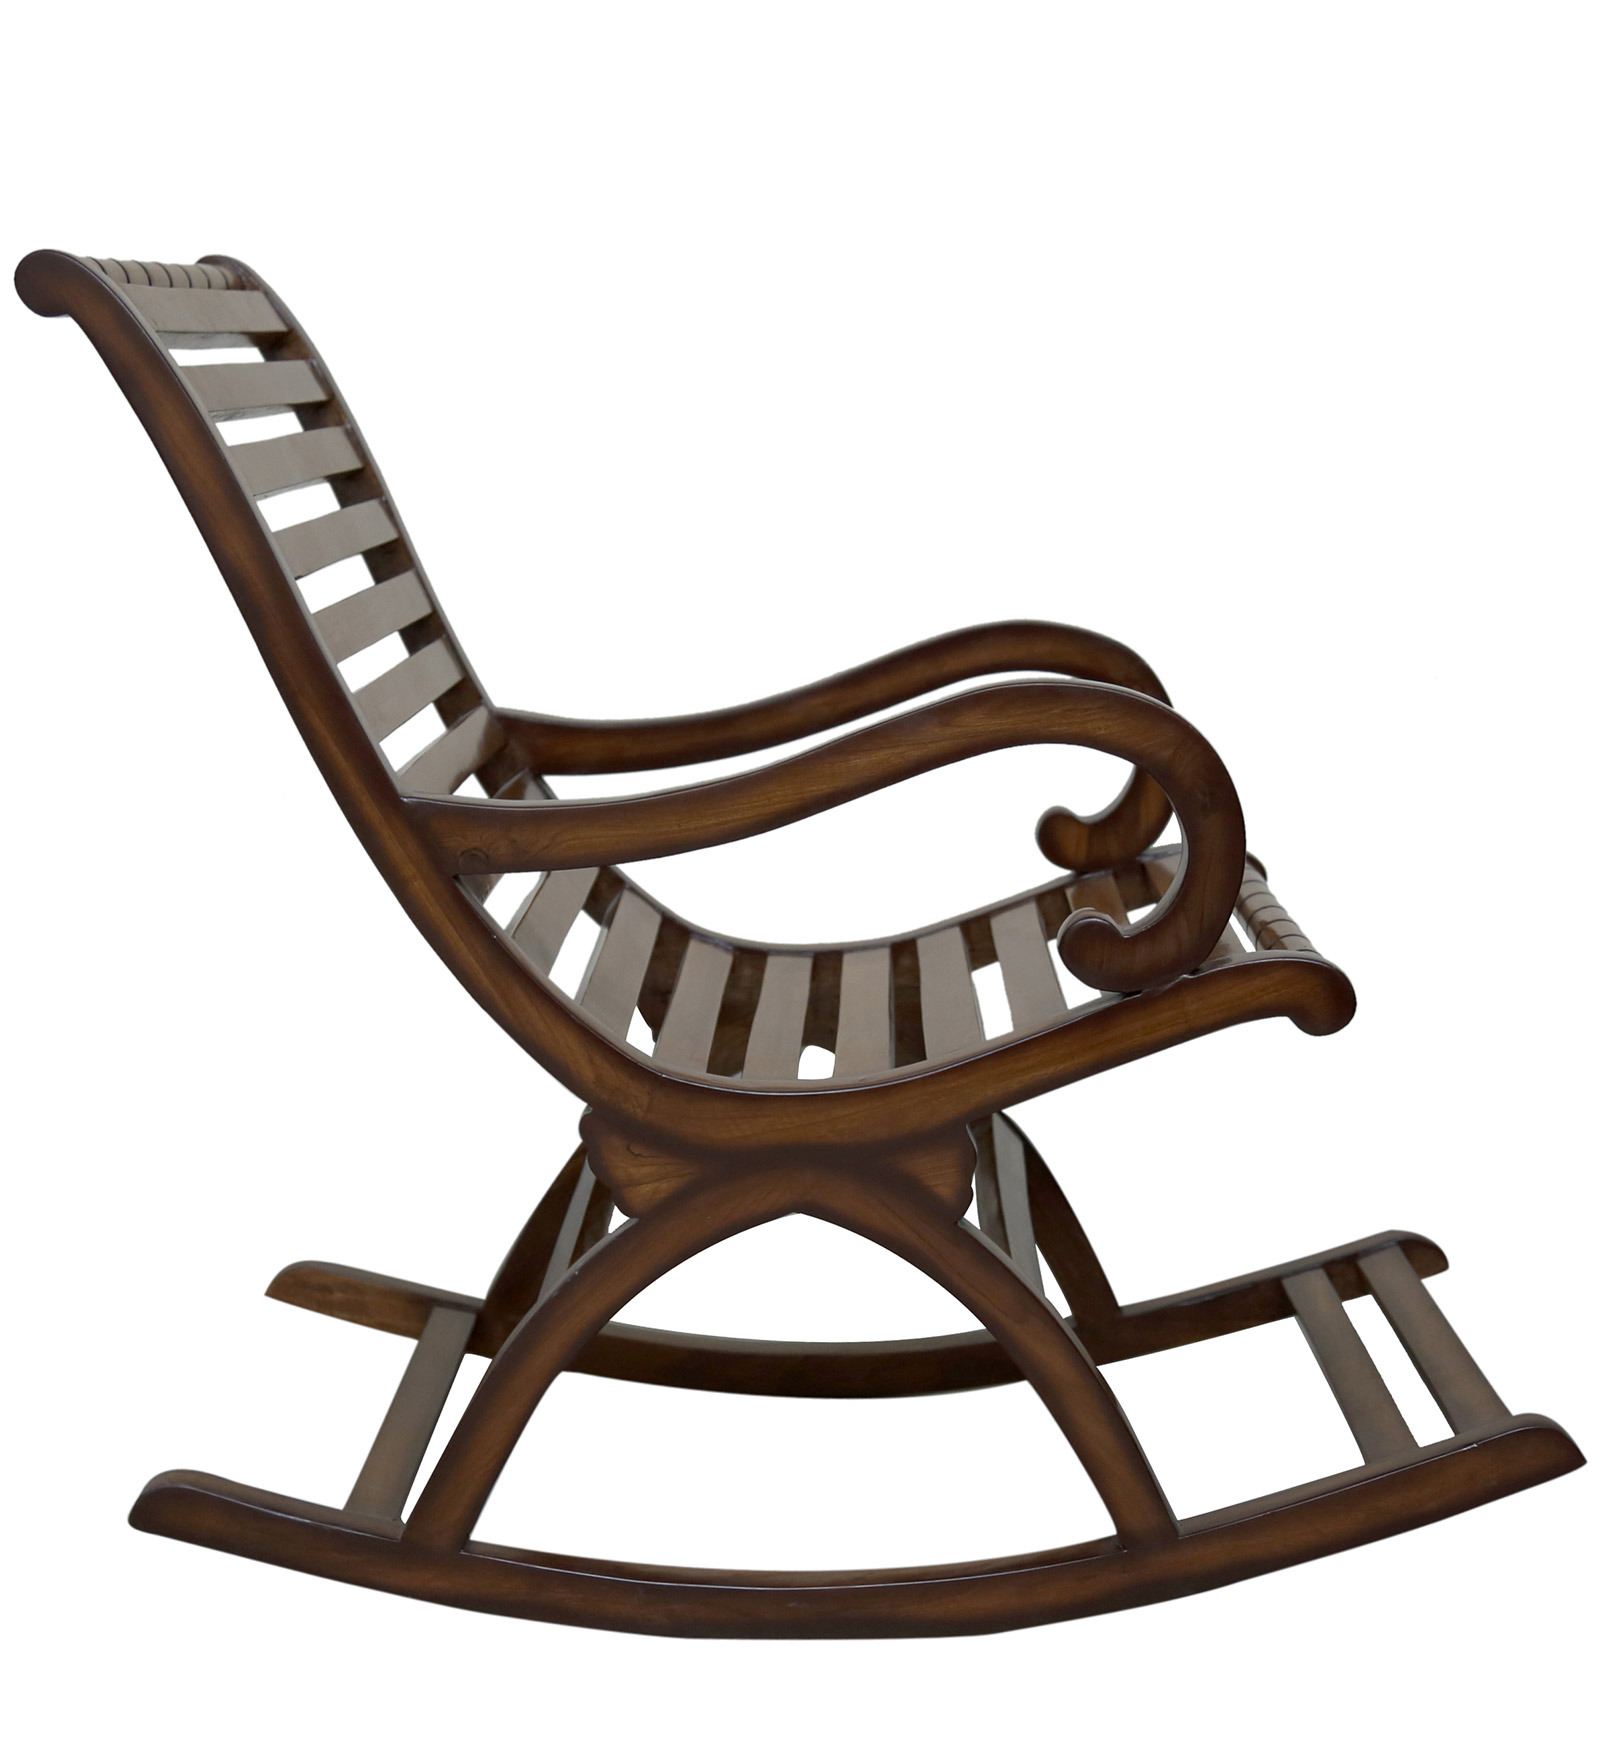Rocking Chair in Teak Colour by RVF: (9, 186, 1577, 1657)
